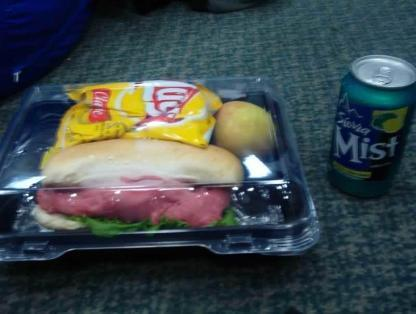Can: (329, 53, 415, 200)
